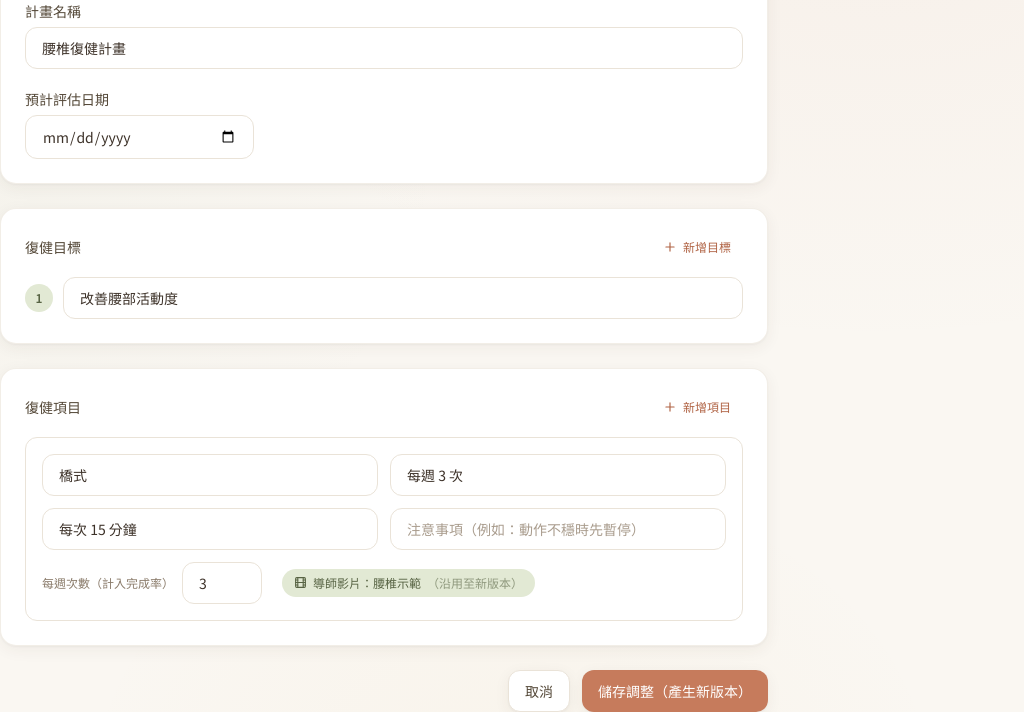
Test case: PlanFormPage（adjust 模式） › 缺調整摘要 → 擋提交並顯示錯誤，不打 API
This screenshot has width=1024, height=712.
(page scrolled)
Click the button with test id "plan-save".
click(675, 690)  # box [582,670,768,711]
(page scrolled)
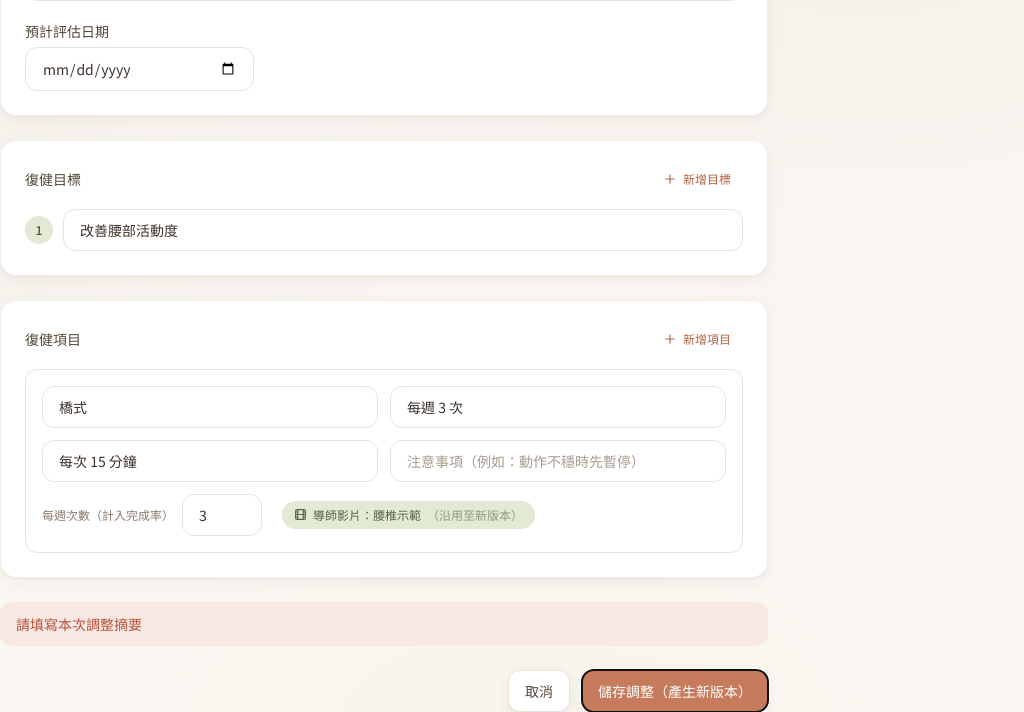
Now the text "請填寫本次調整摘要" is shown, box [0,602,768,646]
